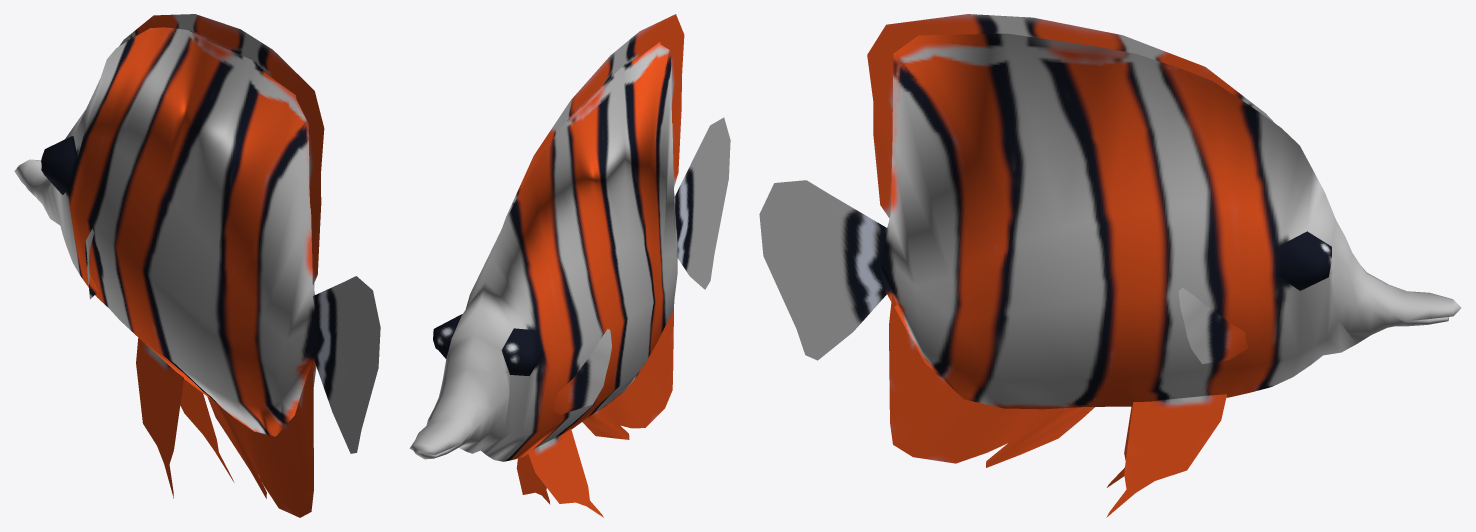
Rendered from ButterFlyOrange.fbx.
3 renders of one model, left to right at view 1: azimuth 30°, elevation 25°; view 2: azimuth 150°, elevation 25°; view 3: azimuth 270°, elevation 25°, orthographic. The views are drawn at different scales.
Parts seen in each view (by area): view 1: ButterFlyOrange_LOD00; view 2: ButterFlyOrange_LOD00; view 3: ButterFlyOrange_LOD00.
Part boxes in pixels (x1,y1,x2,y2): ButterFlyOrange_LOD00: (14, 14, 380, 517); ButterFlyOrange_LOD00: (409, 14, 730, 517); ButterFlyOrange_LOD00: (759, 14, 1460, 517).
Size of what is drawn, in the model's own units: 15.17 by 46.33 by 60.33.
